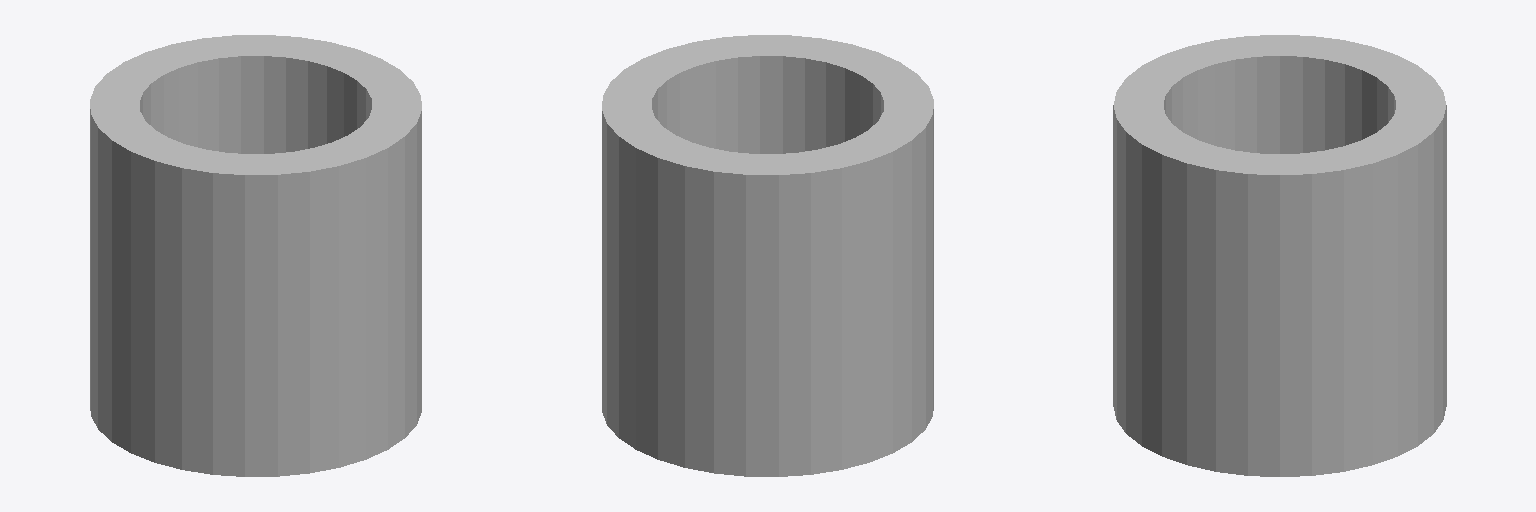
The model's file is tunnel.obj.
3 renders of one model, left to right at view 1: azimuth 30°, elevation 25°; view 2: azimuth 150°, elevation 25°; view 3: azimuth 270°, elevation 25°, orthographic.
Visible parts, largest first — view 1: Cylinder; view 2: Cylinder; view 3: Cylinder.
Part boxes in pixels (bbox=[...]): Cylinder: bbox=[90, 35, 421, 476]; Cylinder: bbox=[602, 35, 933, 476]; Cylinder: bbox=[1113, 35, 1446, 476].
Bounding box in the file's own units: 2 × 2 × 2.